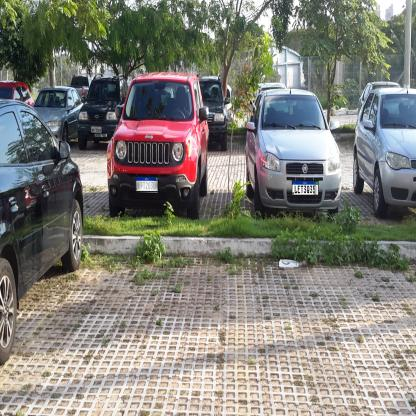PlacaM: (291, 180, 318, 196), (136, 176, 158, 192), (94, 133, 108, 137)
